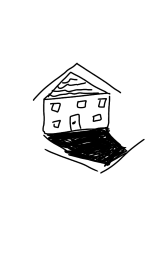door: (68, 112, 85, 130)
open_window: (48, 100, 64, 113), (74, 98, 90, 109), (97, 96, 107, 109), (90, 113, 103, 123), (50, 119, 63, 129)
roof: (28, 60, 123, 102)
shadow: (41, 127, 147, 174)
small_house: (1, 1, 161, 260)
wall: (39, 93, 112, 133)
